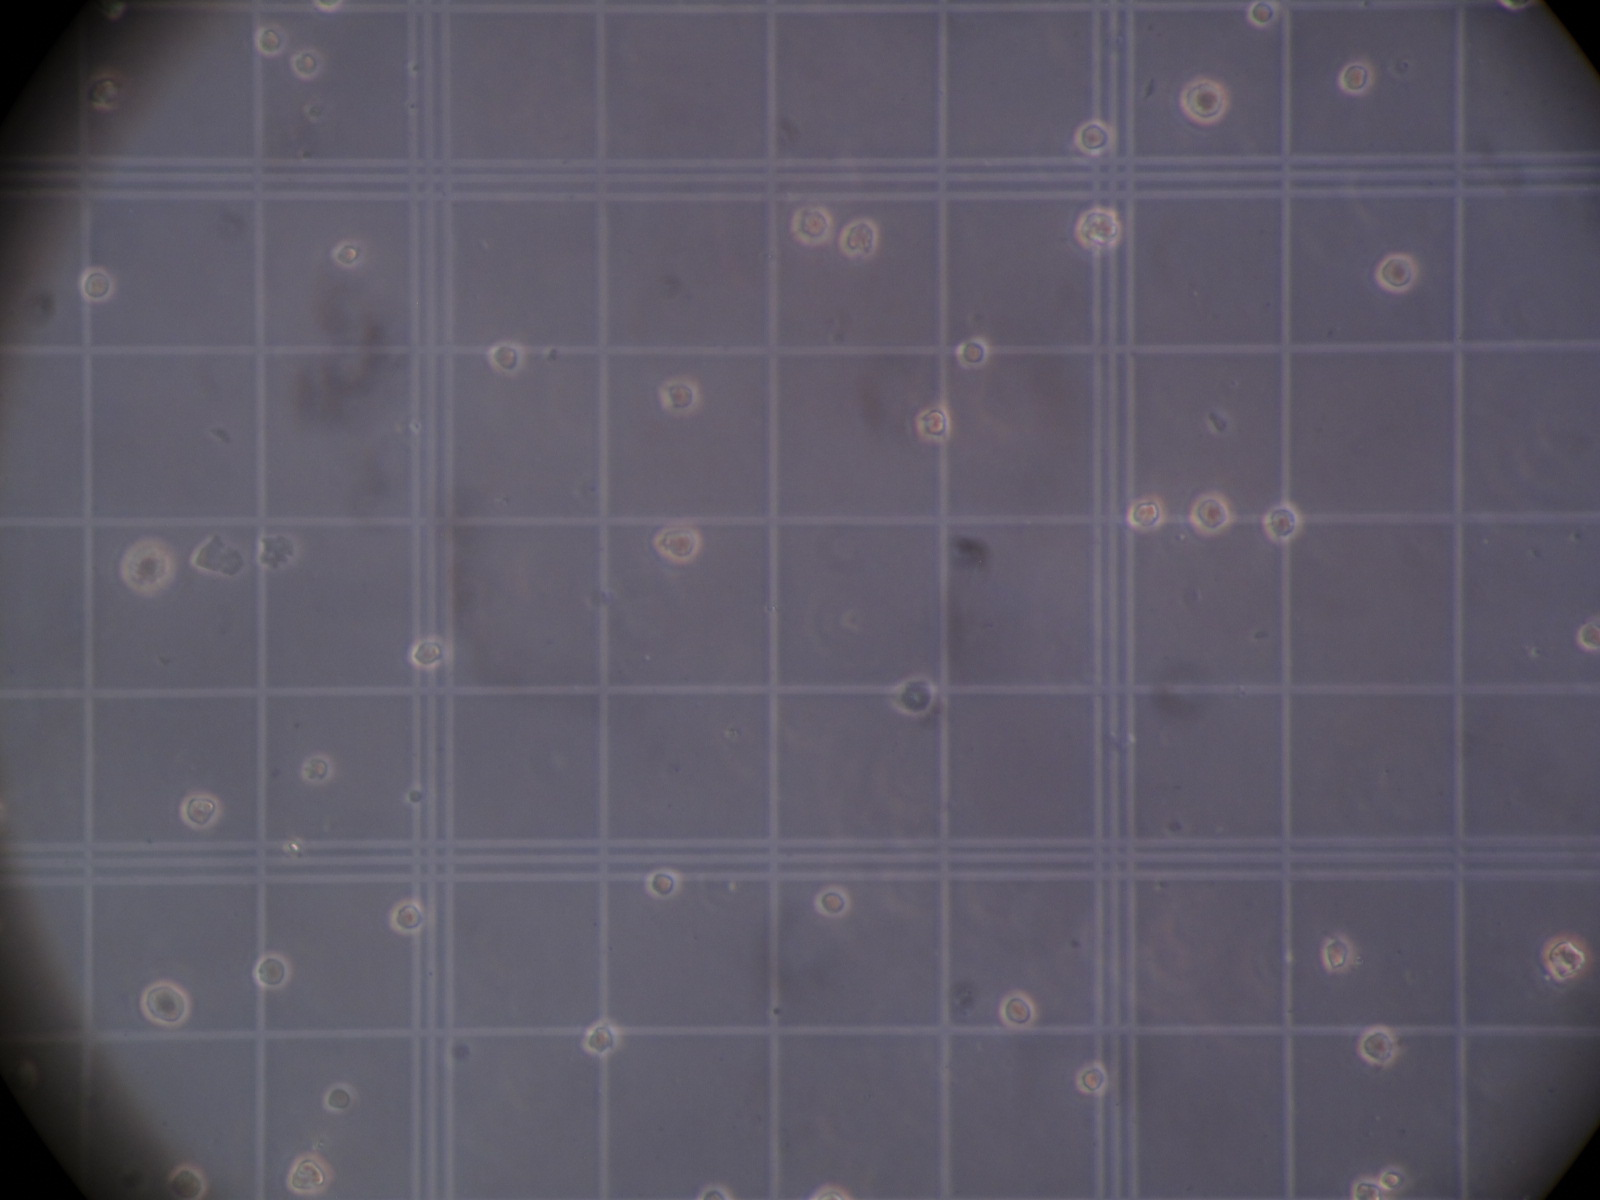hemo: (116, 538, 175, 595), (1180, 77, 1227, 129), (139, 979, 189, 1026), (1075, 207, 1123, 250), (286, 1153, 336, 1192), (1261, 502, 1304, 547), (658, 376, 700, 418), (889, 674, 934, 716), (84, 72, 132, 110), (1374, 251, 1417, 292), (1357, 1024, 1398, 1066), (1542, 937, 1586, 977), (789, 204, 833, 245), (1189, 493, 1231, 534), (179, 790, 222, 829), (839, 217, 878, 258), (1000, 988, 1037, 1032), (656, 526, 700, 562), (1073, 118, 1114, 158), (388, 897, 427, 935), (580, 1020, 620, 1056), (913, 405, 951, 442), (253, 952, 290, 989), (1128, 497, 1167, 532), (168, 1165, 207, 1200), (485, 342, 524, 376), (1322, 933, 1353, 973), (81, 266, 115, 303), (408, 637, 443, 671), (646, 867, 683, 900), (254, 21, 289, 55), (1339, 63, 1373, 96), (323, 1082, 355, 1116), (289, 48, 323, 79), (815, 886, 850, 916), (956, 337, 989, 368), (1078, 1061, 1107, 1095), (302, 753, 333, 784), (1351, 1177, 1387, 1200), (330, 241, 363, 266), (1575, 620, 1600, 652), (1380, 1165, 1409, 1190), (1249, 1, 1275, 26), (311, 1, 346, 15)
